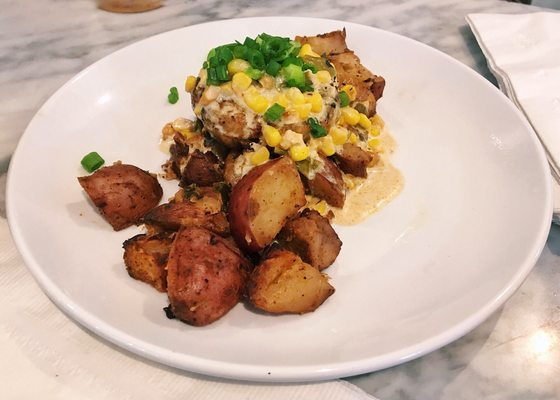burger: (465, 14, 560, 254)
